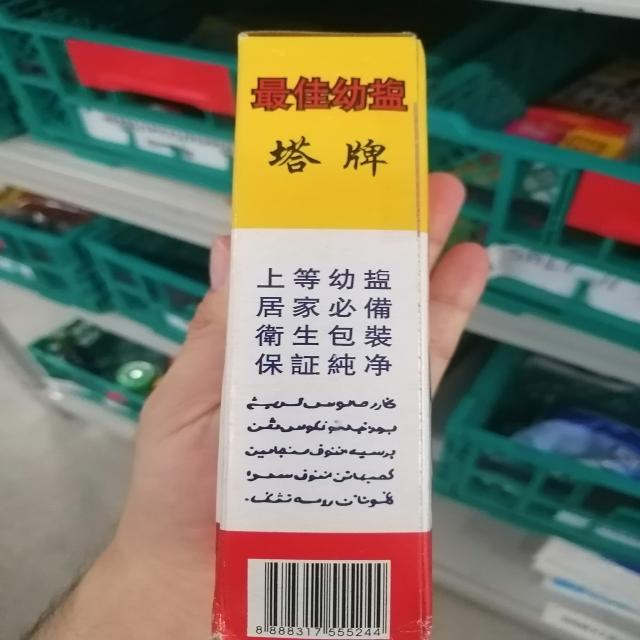object_name: (229, 33, 423, 633)
